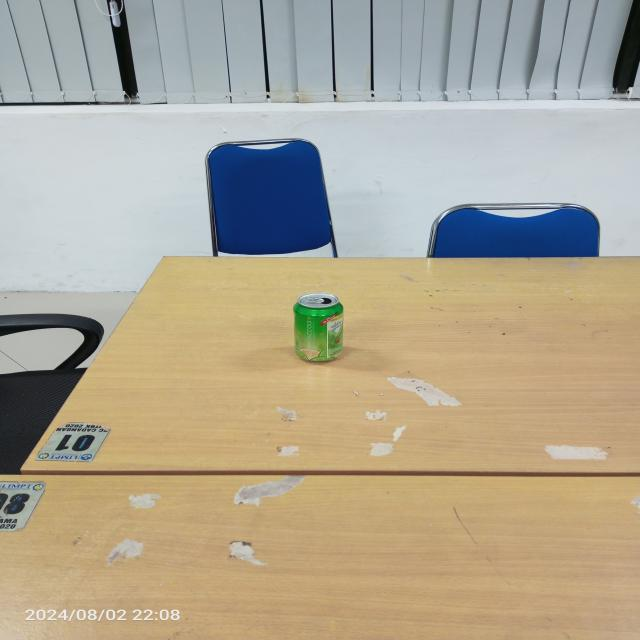ademsarikaleng: (292, 291, 345, 363)
